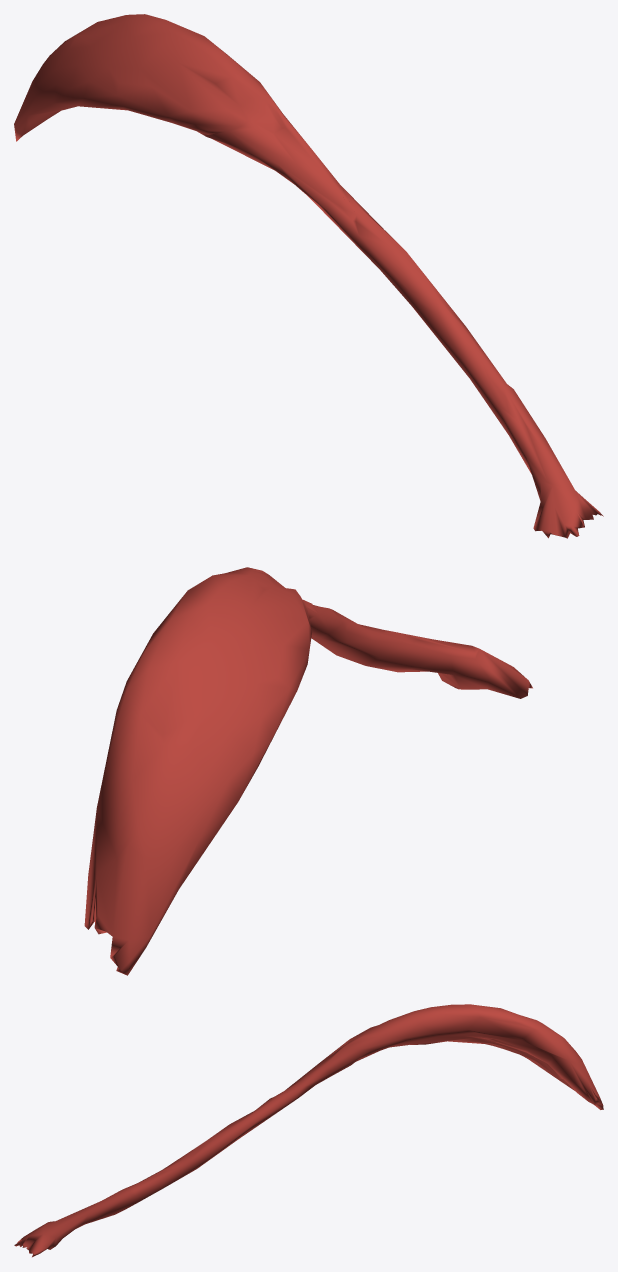
The model's file is musculos-extensor-hallucis-brevis-r.glb.
3 views of the same model, one above another, from view 1: azimuth 30°, elevation 25°; view 2: azimuth 150°, elevation 25°; view 3: azimuth 270°, elevation 25° (orthographic). The views are drawn at different scales.
Visible parts, largest first — view 1: Extensor hallucis brevis.r; view 2: Extensor hallucis brevis.r; view 3: Extensor hallucis brevis.r.
Boxes of the visible parts, box(x1,y1,x2,y2) form: Extensor hallucis brevis.r: box(14, 14, 603, 538); Extensor hallucis brevis.r: box(84, 567, 532, 975); Extensor hallucis brevis.r: box(14, 1004, 603, 1257).
Bounding box in the file's own units: 0.0338 × 0.0479 × 0.1218.
